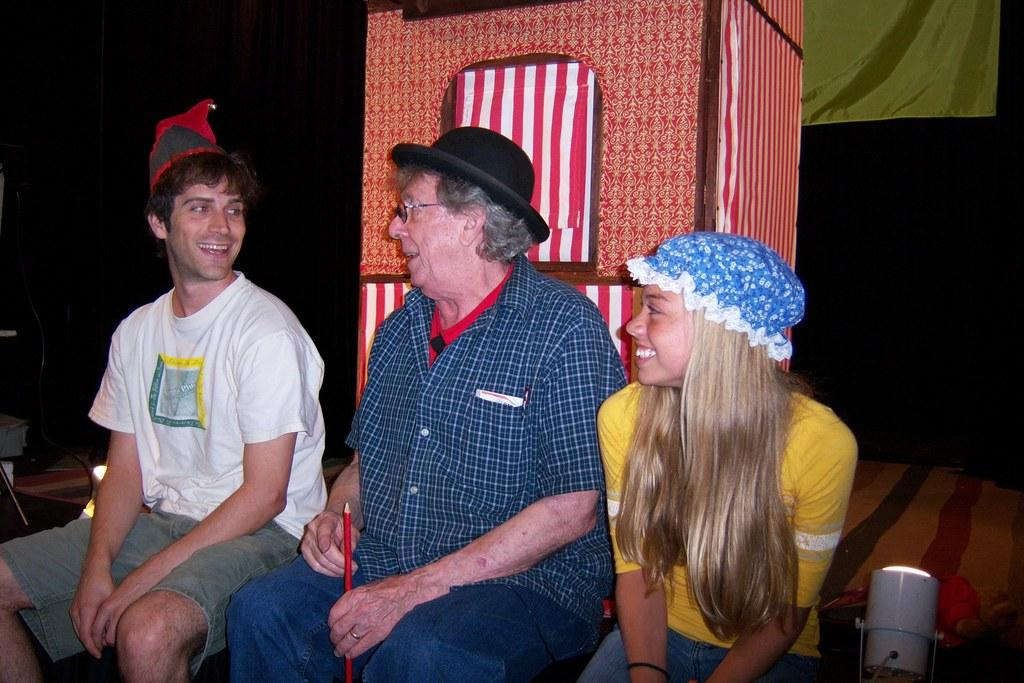Hat: (390, 127, 552, 242)
